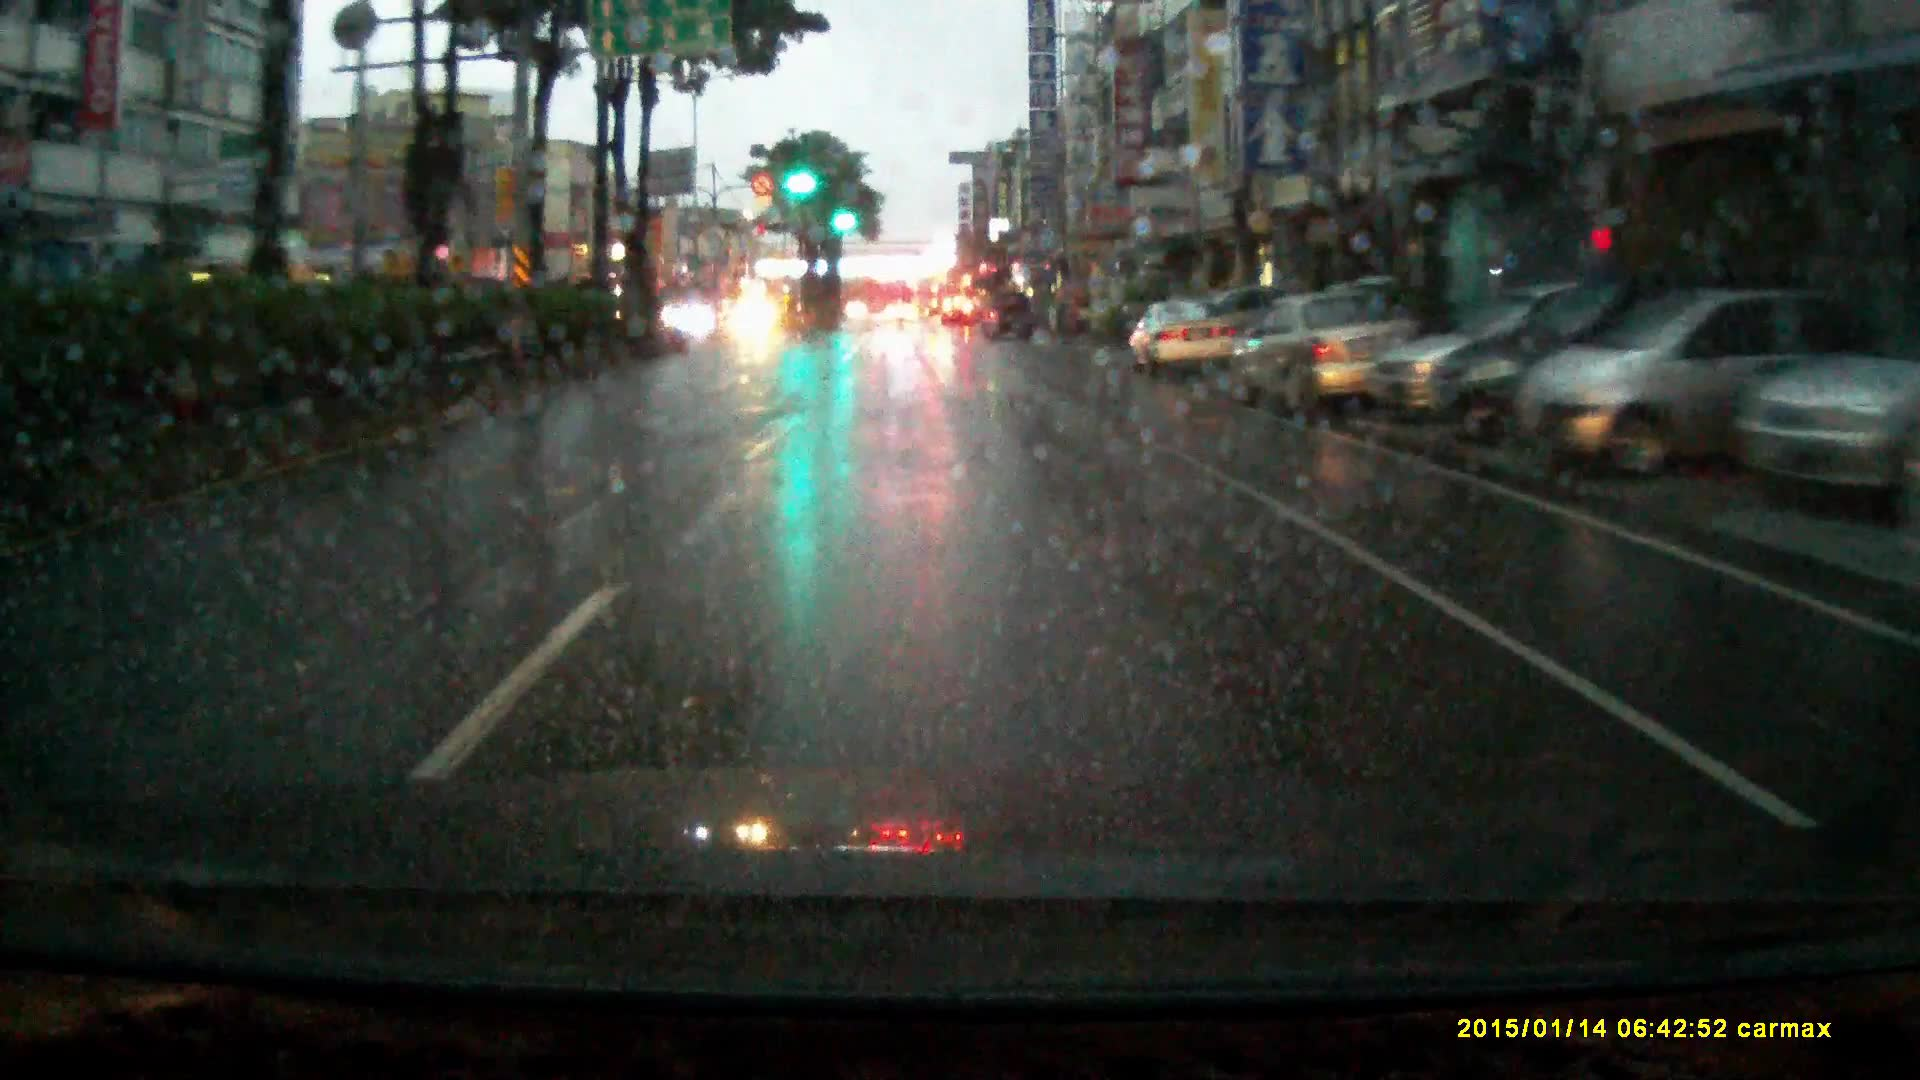vehicle: (1524, 294, 1861, 481), (1427, 287, 1689, 446), (1731, 319, 1920, 498), (1228, 286, 1424, 429), (1367, 301, 1538, 415), (1129, 302, 1232, 390), (981, 291, 1034, 343), (728, 301, 782, 349), (914, 276, 940, 318), (942, 297, 975, 327), (886, 303, 918, 324)
